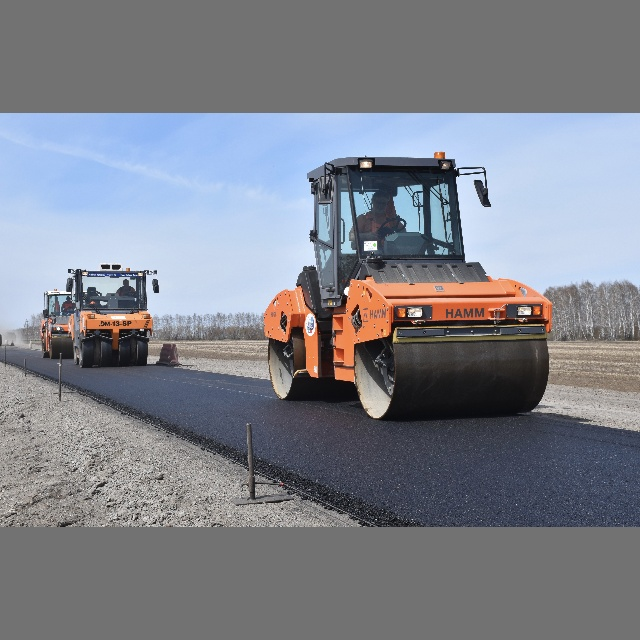Рабочая техника: (264, 159, 549, 417), (71, 268, 150, 367)
